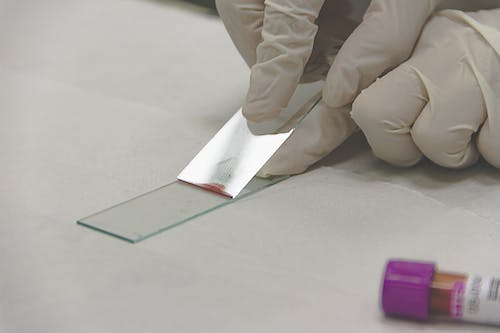blood: (380, 258, 500, 329), (177, 177, 233, 201)
